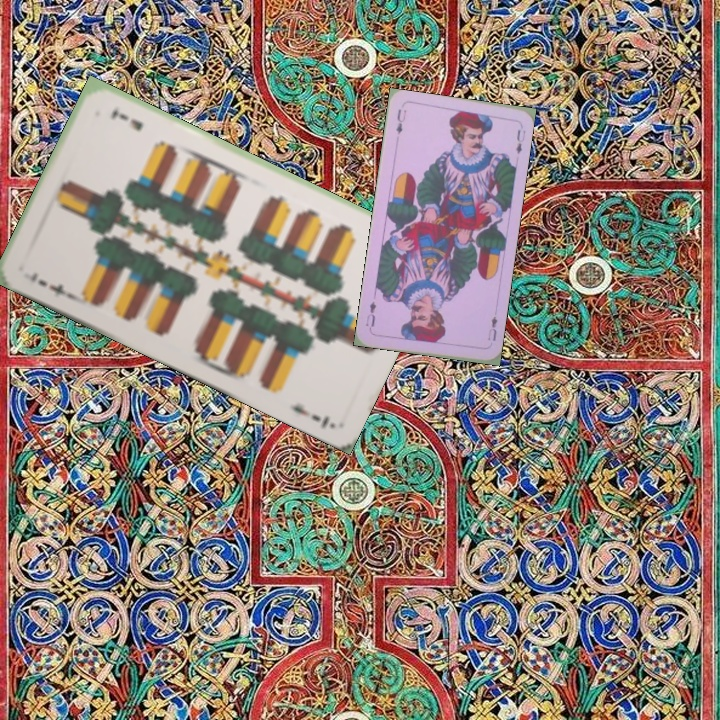E7: (26, 267, 76, 302)
EU: (392, 105, 409, 137), (484, 312, 500, 343)
